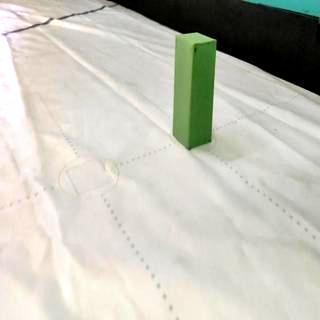greenbox: (173, 30, 216, 152)
